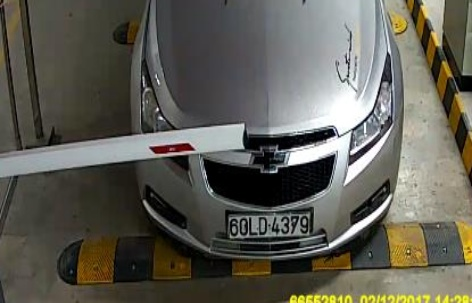plate: (224, 210, 312, 237)
